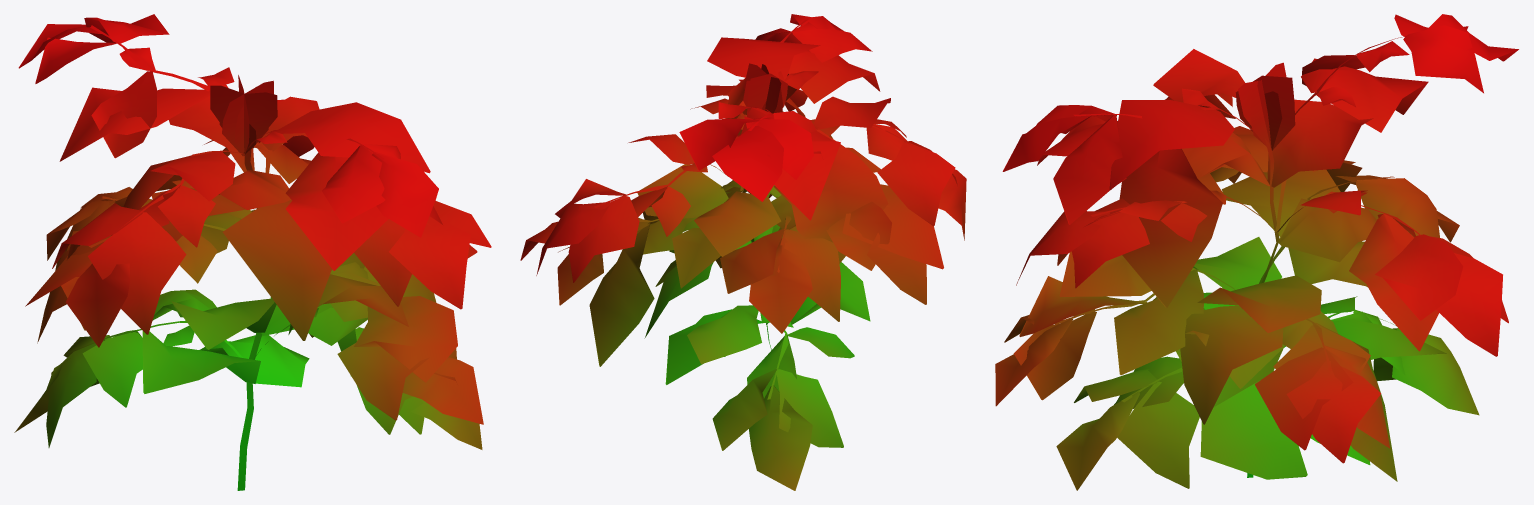
The model's file is Var3_LOD4.fbx.
The picture shows the model from 3 angles, left to right: view 1: azimuth 30°, elevation 25°; view 2: azimuth 150°, elevation 25°; view 3: azimuth 270°, elevation 25°; orthographic projection. The views are drawn at different scales.
Parts seen in each view (by area): view 1: _3w85_Var3_LOD4; view 2: _3w85_Var3_LOD4; view 3: _3w85_Var3_LOD4.
Boxes of the visible parts, box(x1,y1,x2,y2) form: _3w85_Var3_LOD4: box(14, 14, 491, 490); _3w85_Var3_LOD4: box(520, 14, 966, 490); _3w85_Var3_LOD4: box(995, 14, 1518, 490).
Bounding box in the file's own units: 104 × 88.99 × 98.63.
